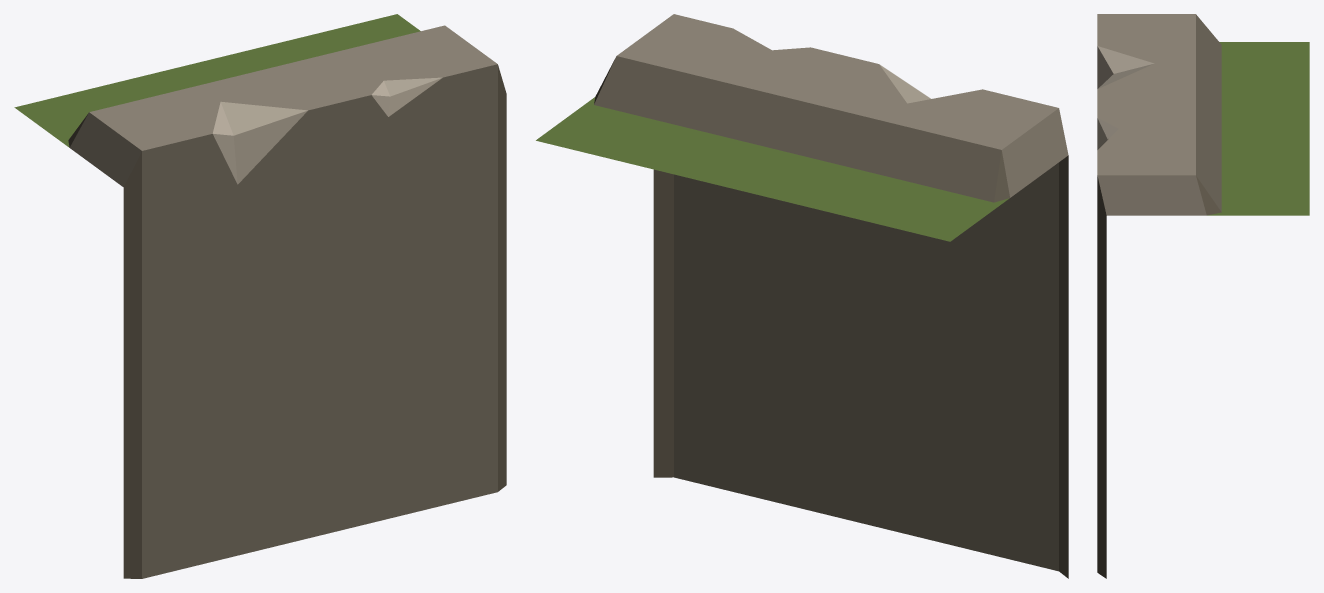
The model's file is SF_Bld_Elven_Blockwall_03.fbx.
The picture shows the model from 3 angles, left to right: view 1: azimuth 30°, elevation 25°; view 2: azimuth 150°, elevation 25°; view 3: azimuth 270°, elevation 25°; orthographic projection. The views are drawn at different scales.
Visible parts, largest first — view 1: SF_Bld_Elven_Blockwall_03; view 2: SF_Bld_Elven_Blockwall_03; view 3: SF_Bld_Elven_Blockwall_03.
Boxes of the visible parts, bbox=[...] form: SF_Bld_Elven_Blockwall_03: bbox=[14, 14, 506, 578]; SF_Bld_Elven_Blockwall_03: bbox=[536, 14, 1068, 578]; SF_Bld_Elven_Blockwall_03: bbox=[1097, 14, 1309, 578].
Bounding box in the file's own units: 10 × 10.67 × 5.16.
